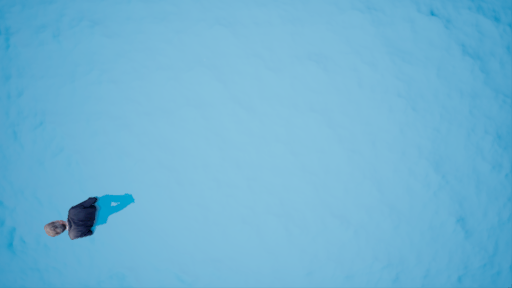person: (37, 191, 142, 242)
